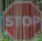Stop: (5, 3, 39, 40)
